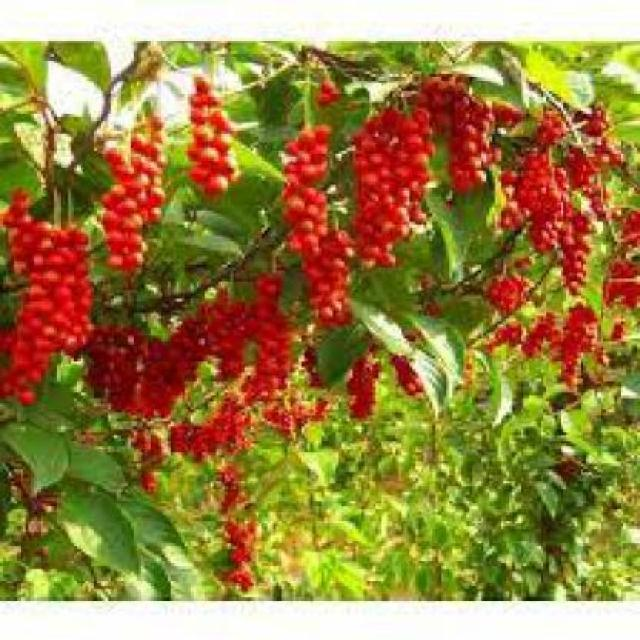RIPE: (14, 216, 97, 399), (523, 106, 609, 271), (365, 100, 439, 254), (291, 125, 335, 322), (446, 71, 512, 188), (111, 109, 162, 260), (191, 68, 242, 177), (254, 262, 291, 399), (552, 299, 600, 382), (191, 293, 238, 376), (356, 356, 385, 419)
